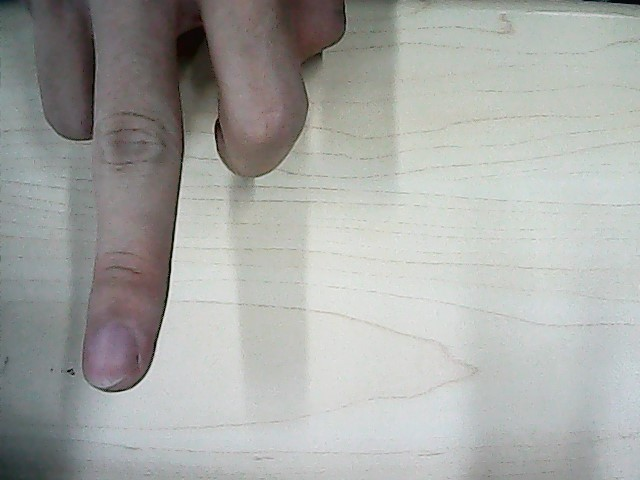nail: (85, 328, 140, 392)
